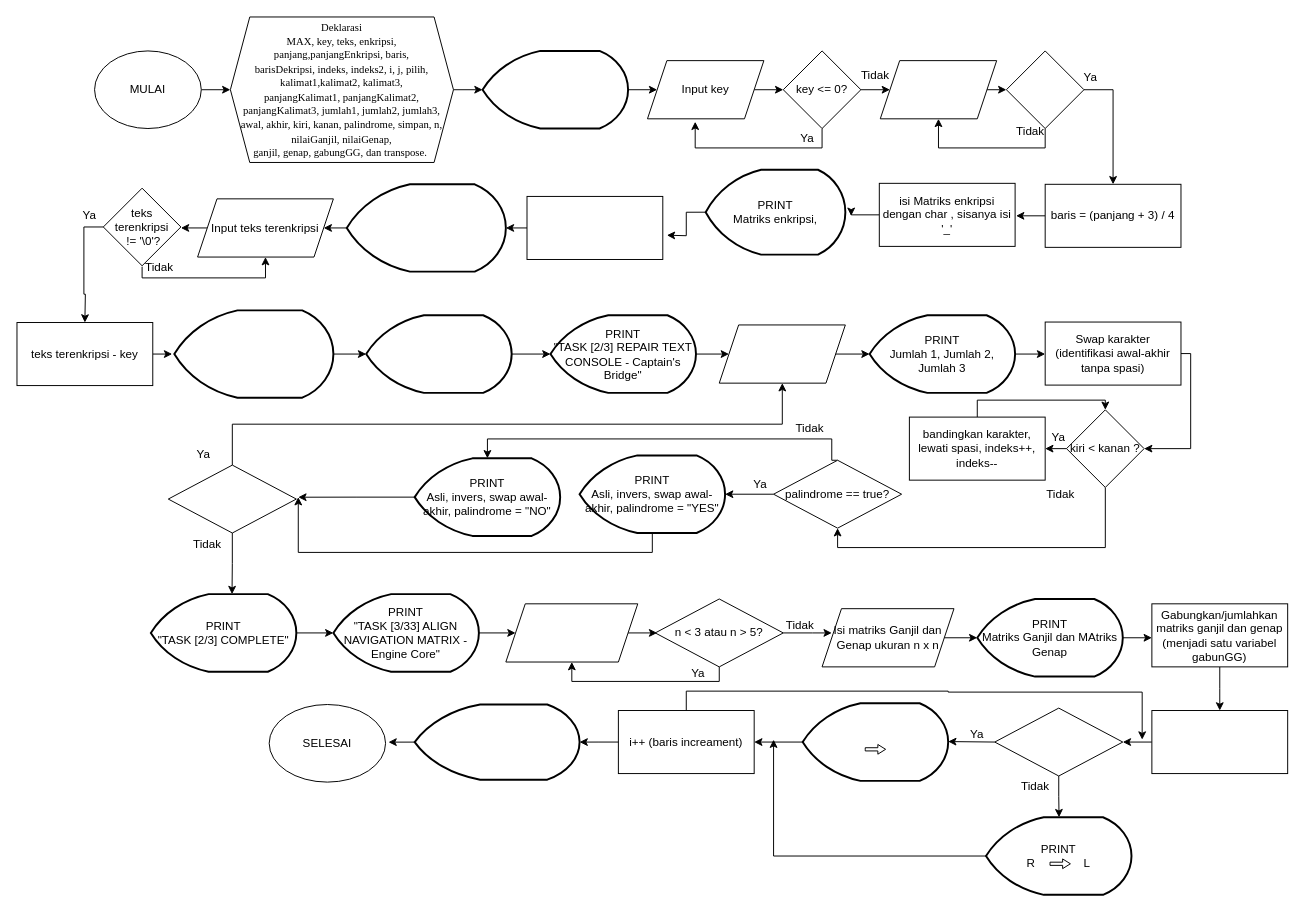
Image size: 1305x913. Some labels were removed from this diagram. Here are the shapes that lost their labels. From the top down, the box of each, then its label:
(481, 49, 629, 129): “[TASK 1/3] DECODE SIGNAL - Communication Room
(879, 60, 997, 119): Input teks
(1005, 50, 1084, 129): teks != '\0'
(345, 183, 506, 272): PRINT hasil enkripsi sebelum key, dan hasil enkripsi sesudah key
(526, 195, 663, 259): Matriks enkripsi + key
(173, 309, 334, 398): PRINT Matriks dekripsi dan hasil final tanpa '_'
(365, 314, 512, 393): PRINT "TASK [1/3] COMPLETE"
(718, 324, 845, 383): Input kaimat 1, kalimat 2, kalimat 3
(167, 464, 296, 533): Verifikasi teks lain? (y/n)
(505, 603, 638, 662): Input n (ukuran matriks min 3 max 5
(413, 703, 580, 780): PRINT Matriks integrasi, Transpose, Snake Traverse
(801, 702, 949, 781): PRINT L R
(994, 707, 1123, 776): baris % 2 == 0?
(1151, 710, 1288, 774): Transpose matriks gabunGG
